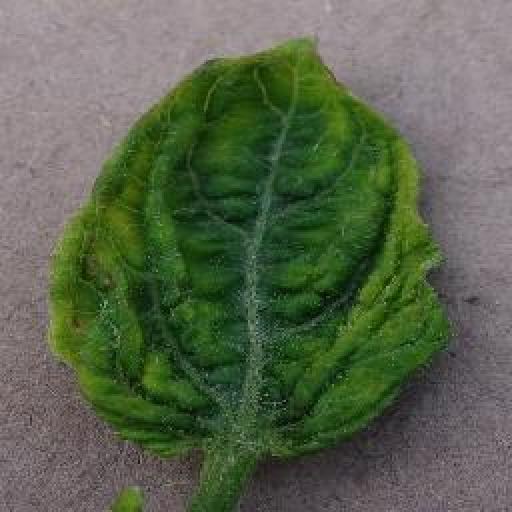disease_tomato: (50, 36, 448, 460)
